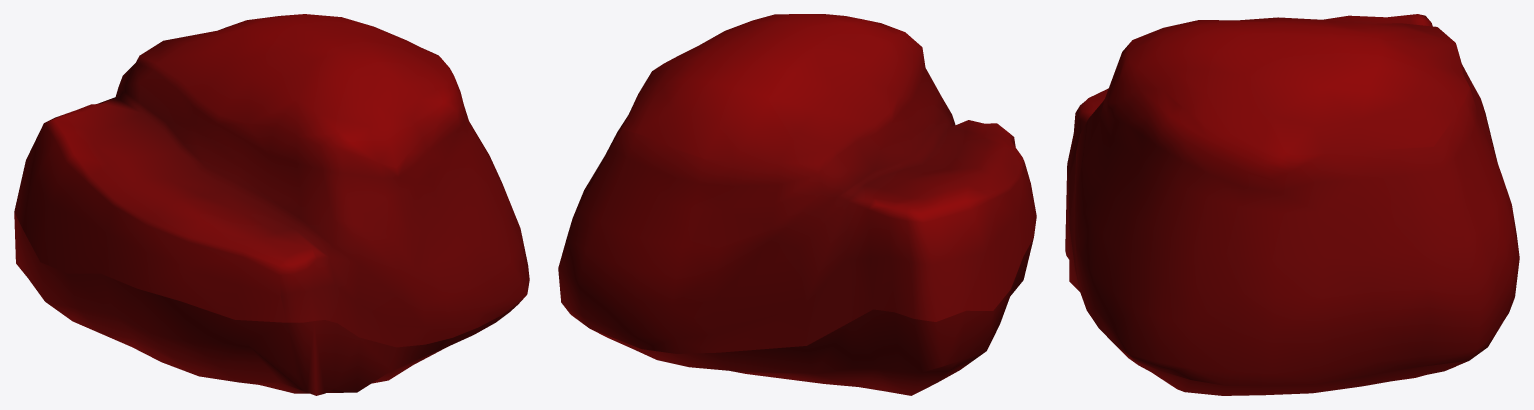
The model's file is geology-rocks-rockmedium_v7.fbx.
The picture shows the model from 3 angles, left to right: view 1: azimuth 30°, elevation 25°; view 2: azimuth 150°, elevation 25°; view 3: azimuth 270°, elevation 25°; orthographic projection. The views are drawn at different scales.
Visible parts, largest first — view 1: RockMedium_v7; view 2: RockMedium_v7; view 3: RockMedium_v7.
Boxes of the visible parts, left/top/right/bottom form: RockMedium_v7: left=14, top=14, right=529, bottom=395; RockMedium_v7: left=558, top=14, right=1036, bottom=395; RockMedium_v7: left=1065, top=14, right=1519, bottom=395.
Size of the model in its own units: 3.62 by 2.34 by 3.19.
